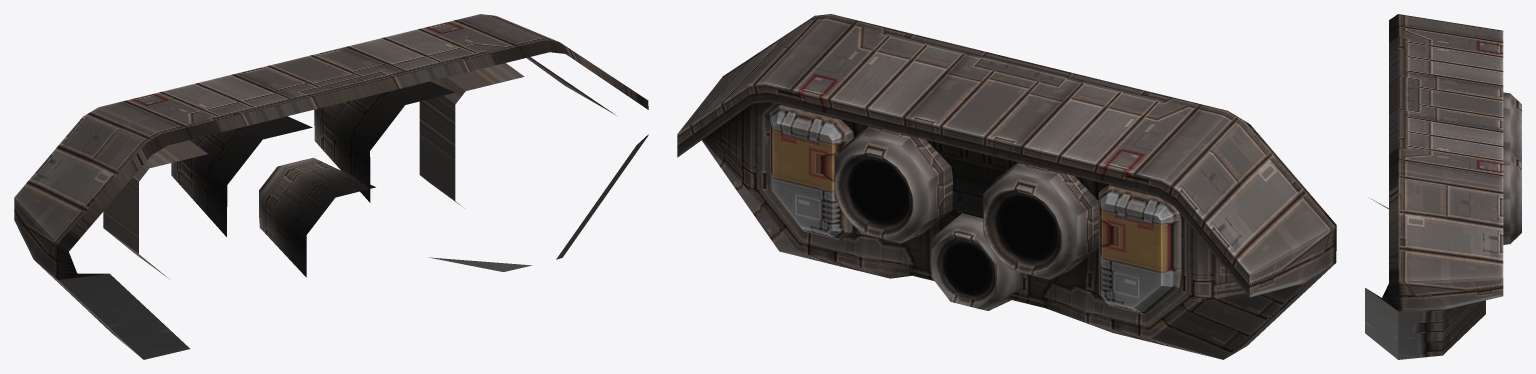
The model's file is engine_hgn_carrier_02_ion_01_t1.glb.
3 views of the same model, side by side, from view 1: azimuth 30°, elevation 25°; view 2: azimuth 150°, elevation 25°; view 3: azimuth 270°, elevation 25° (orthographic). The views are drawn at different scales.
Visible parts, largest first — view 1: carrier_01_engine_s; view 2: carrier_01_engine_s; view 3: carrier_01_engine_s.
Part boxes in pixels (x1,y1,x2,y2): carrier_01_engine_s: (14, 14, 648, 359); carrier_01_engine_s: (677, 14, 1336, 359); carrier_01_engine_s: (1365, 14, 1521, 359).
Size of the model in its own units: 2.42 by 0.8698 by 0.6749.
Materials: 1 (1 with a texture image).
